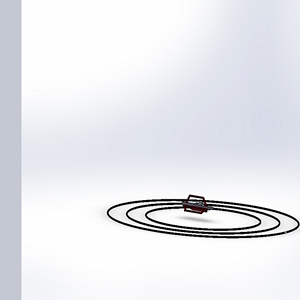circle: (99, 190, 300, 245)
submarine: (177, 192, 215, 220)
